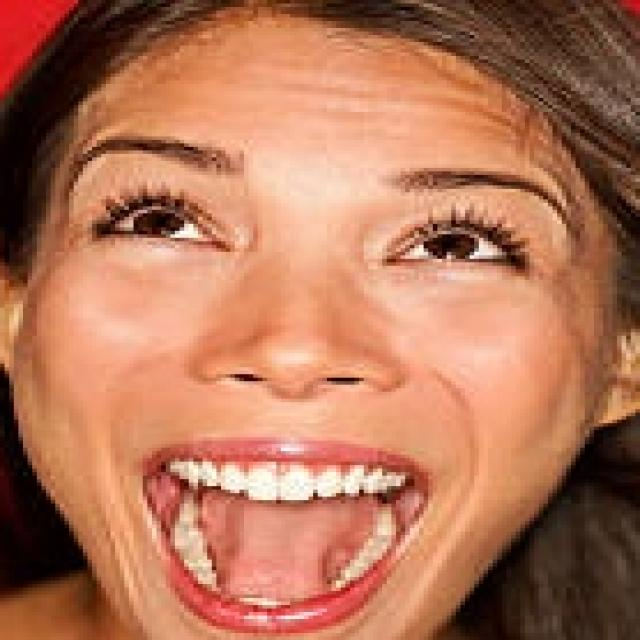Anxiety: (5, 5, 622, 637)
